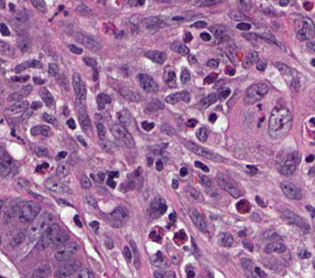nucleus: (184, 141, 223, 161), (27, 212, 53, 241), (268, 106, 291, 138), (36, 223, 60, 249), (217, 174, 242, 197), (111, 123, 134, 147), (73, 32, 101, 50), (244, 82, 268, 103), (281, 209, 307, 227), (137, 73, 158, 92), (189, 208, 206, 231), (45, 178, 71, 193), (280, 181, 301, 199), (110, 206, 128, 226), (149, 197, 166, 218), (83, 57, 98, 80), (72, 73, 85, 99), (297, 19, 313, 40), (142, 16, 167, 29), (119, 87, 141, 101), (166, 91, 190, 103), (198, 93, 217, 108), (145, 50, 166, 63), (52, 231, 69, 246), (39, 87, 53, 105), (243, 51, 258, 67), (163, 67, 175, 87), (186, 186, 202, 201), (171, 41, 188, 55), (145, 99, 163, 112), (284, 151, 300, 165), (275, 62, 292, 75), (31, 125, 51, 136), (78, 113, 90, 131), (97, 93, 110, 109), (118, 109, 130, 126), (100, 140, 117, 152), (210, 25, 225, 38), (56, 164, 69, 178), (219, 233, 233, 246), (279, 164, 295, 175), (236, 200, 249, 213), (196, 127, 208, 141), (174, 230, 186, 243), (31, 0, 45, 11), (76, 3, 90, 14), (96, 123, 105, 139), (80, 175, 90, 189), (199, 175, 211, 186), (193, 0, 219, 5), (69, 44, 82, 54), (161, 124, 174, 134), (195, 161, 208, 171), (85, 196, 96, 207), (149, 230, 160, 241), (230, 12, 245, 20), (48, 63, 58, 75), (43, 113, 55, 123), (35, 146, 47, 156), (181, 69, 189, 83), (205, 73, 216, 83), (242, 239, 252, 250), (237, 22, 250, 30), (291, 77, 299, 90), (207, 59, 218, 68), (142, 121, 153, 130), (191, 21, 206, 27), (219, 89, 229, 98), (77, 136, 86, 146), (246, 165, 256, 174), (106, 177, 115, 187), (255, 196, 264, 206), (104, 238, 113, 248), (257, 61, 266, 70), (225, 66, 234, 75), (200, 32, 210, 40), (56, 151, 66, 159), (74, 215, 81, 226), (67, 119, 75, 128), (89, 221, 98, 229), (184, 32, 191, 42), (30, 60, 40, 67), (33, 77, 43, 84), (186, 119, 196, 126), (31, 102, 40, 109), (209, 113, 216, 122), (180, 167, 187, 176), (97, 172, 104, 181), (156, 160, 162, 170), (58, 199, 69, 204), (279, 0, 288, 6), (169, 213, 175, 221), (172, 179, 177, 188), (306, 155, 313, 161), (109, 172, 117, 177), (309, 167, 313, 176), (311, 58, 314, 65), (148, 158, 151, 164), (239, 232, 244, 235)
